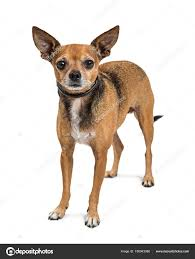chihuahua: (21, 18, 172, 231)
